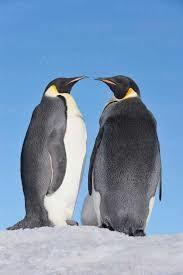emporer: (4, 65, 98, 231)
